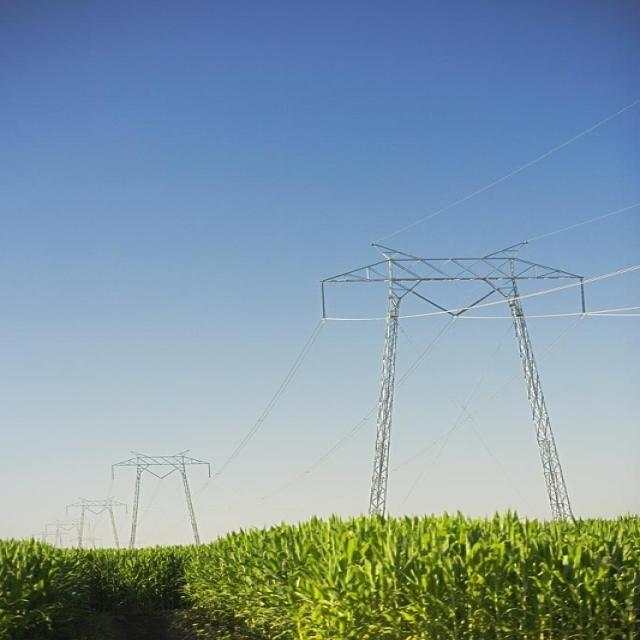non-critical vegetation: (300, 234, 598, 534), (104, 444, 218, 548), (60, 498, 125, 548)
